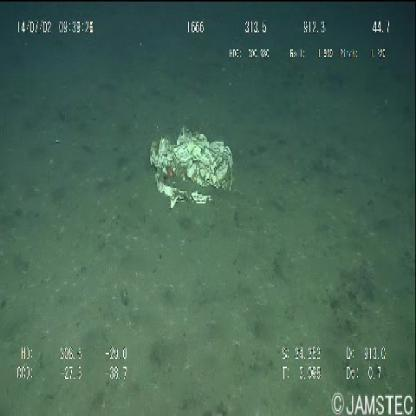Rác: (149, 123, 234, 211)
